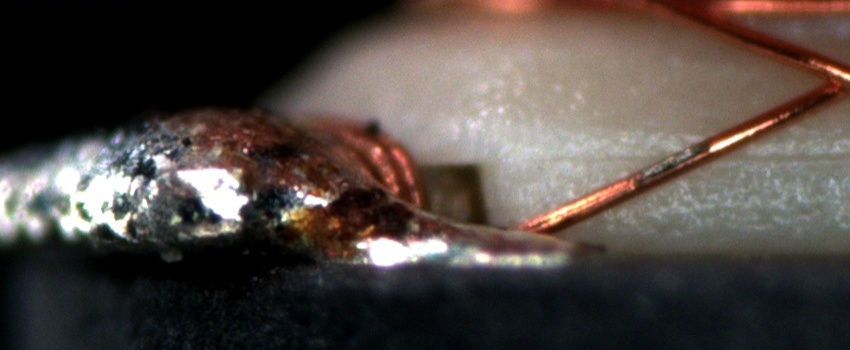CL: (799, 49, 849, 106)
DL: (533, 127, 850, 191)
TE: (305, 110, 430, 210)
